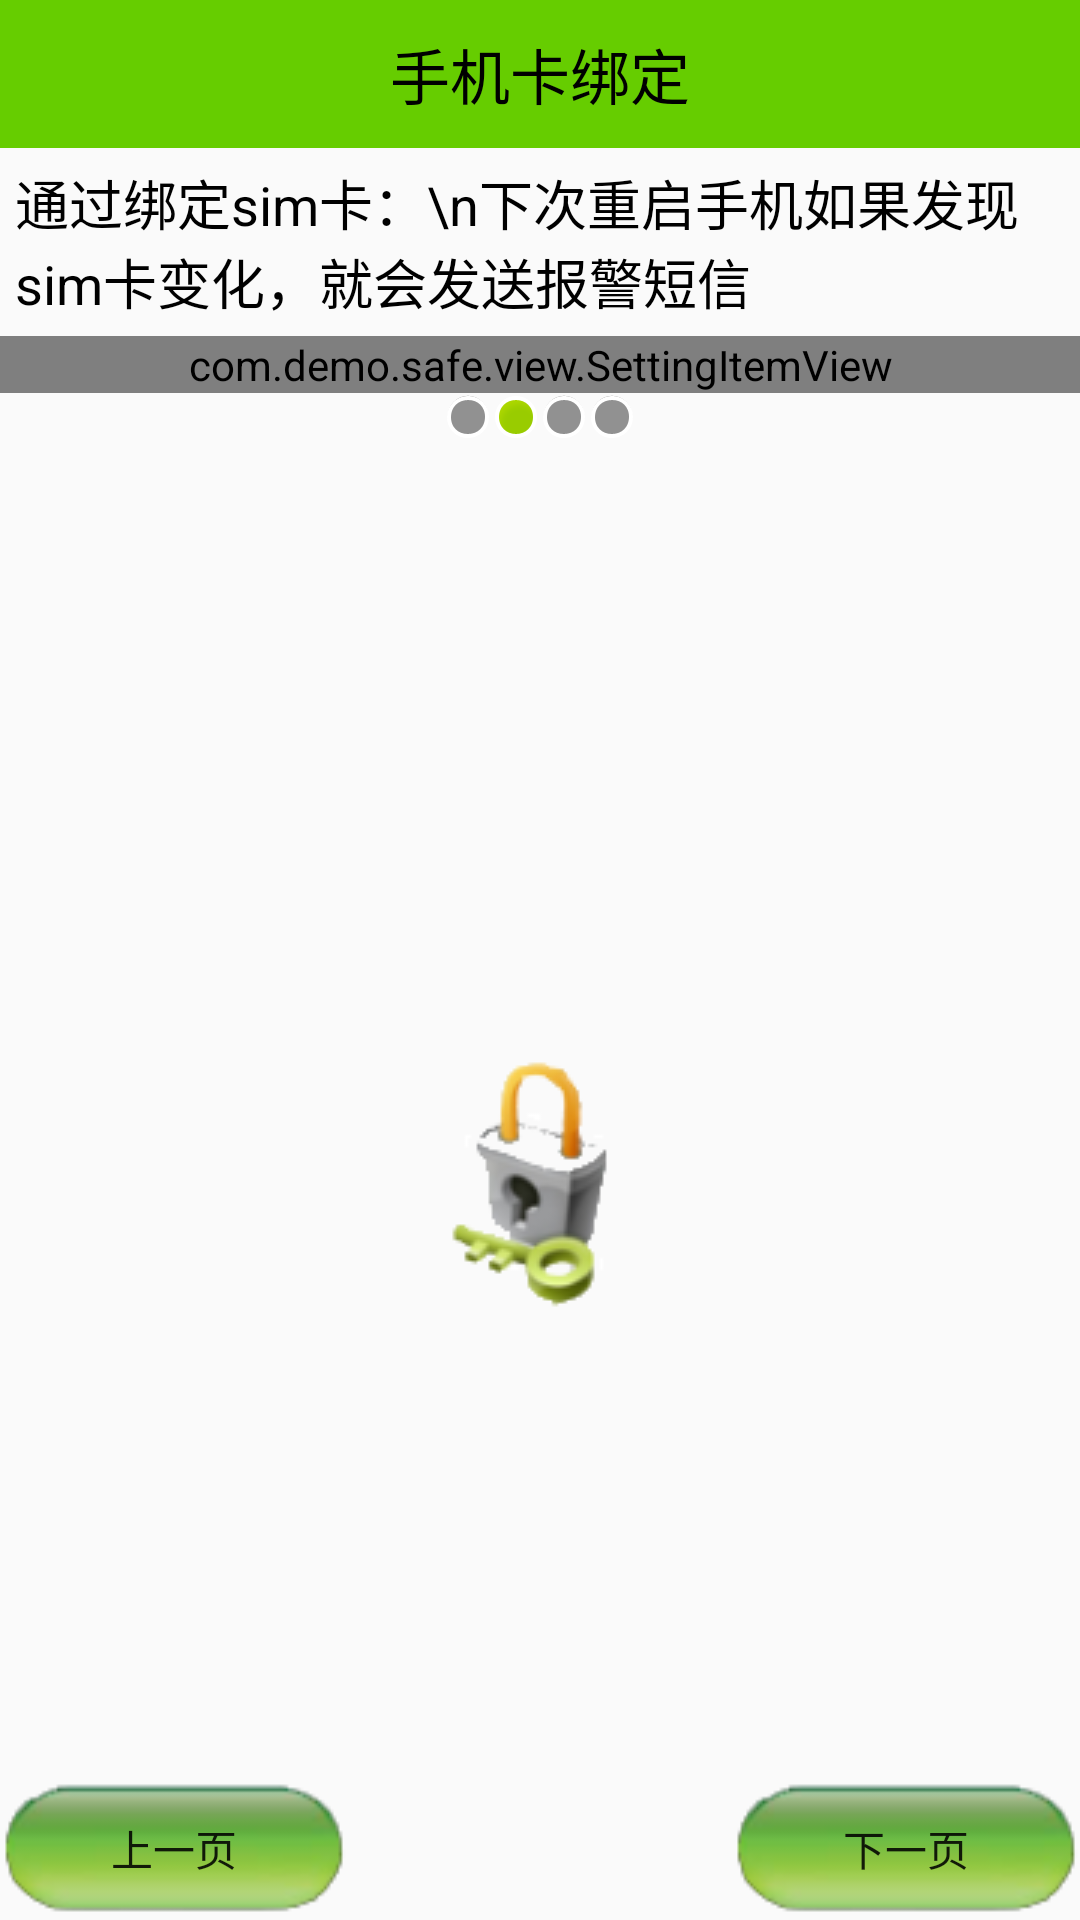

Screen size 1080px×1920px. Icon name, then its box in pixels as (x1,y1,x2,y2):
lock: (452,1062,607,1306)
